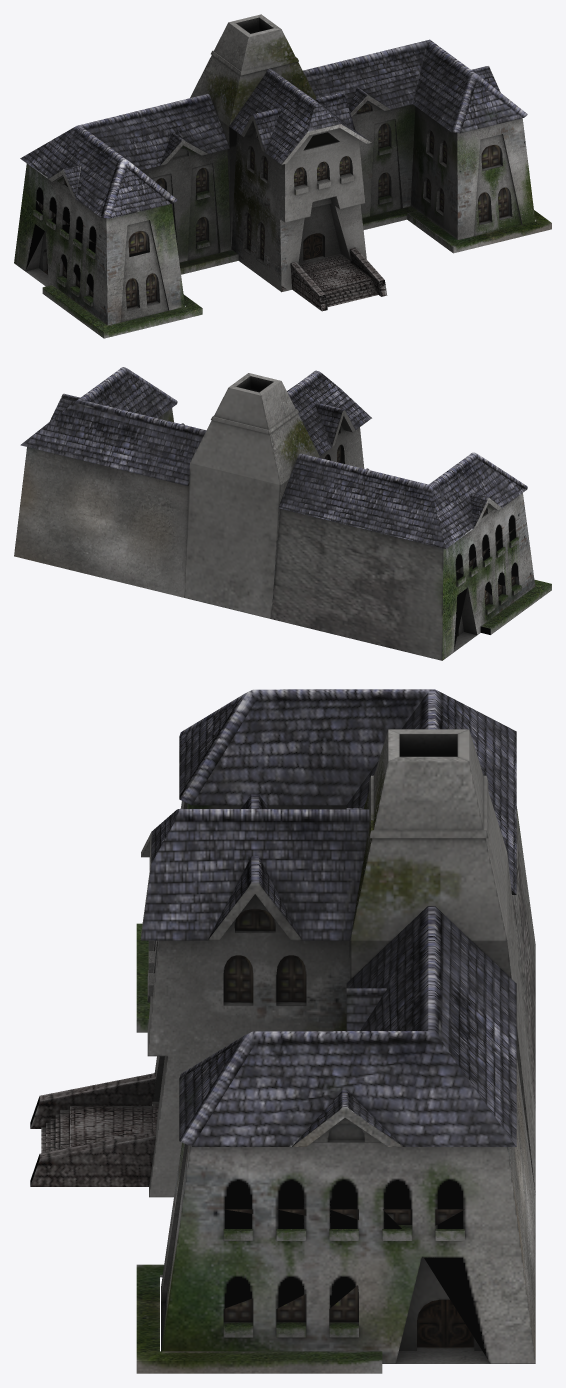
The model's file is Orphanage_atlas.fbx.
3 renders of one model, top to bottom at view 1: azimuth 30°, elevation 25°; view 2: azimuth 150°, elevation 25°; view 3: azimuth 270°, elevation 25°, orthographic. The views are drawn at different scales.
Parts seen in each view (by area): view 1: orphanage_mainhall; view 2: orphanage_mainhall; view 3: orphanage_mainhall.
Boxes of the visible parts, x1,y1,x2,y2 form: orphanage_mainhall: [14, 14, 551, 338]; orphanage_mainhall: [14, 367, 551, 660]; orphanage_mainhall: [30, 689, 535, 1373].
Bounding box in the file's own units: 14.78 × 6.46 × 7.22.
